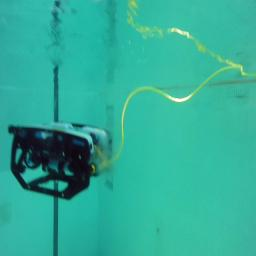Side: (7, 122, 113, 200)
